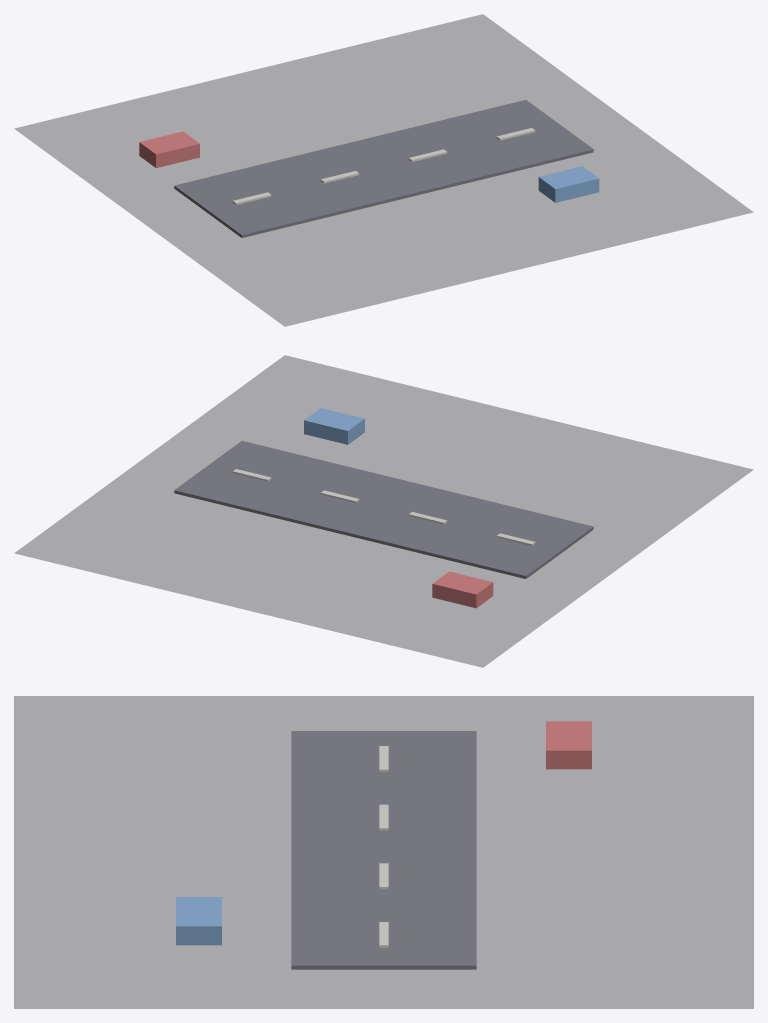
File: kid_tapete_pista.glb
3 views of the same model, one above another, from view 1: azimuth 30°, elevation 25°; view 2: azimuth 150°, elevation 25°; view 3: azimuth 270°, elevation 25° (orthographic). The views are drawn at different scales.
Visible parts, largest first — view 1: KID_TAPETE_PISTA_v01; view 2: KID_TAPETE_PISTA_v01; view 3: KID_TAPETE_PISTA_v01.
Part boxes in pixels (<box>): KID_TAPETE_PISTA_v01: <box>14,14,753,326</box>; KID_TAPETE_PISTA_v01: <box>14,355,753,667</box>; KID_TAPETE_PISTA_v01: <box>14,696,753,1008</box>.
Size of the model in its own units: 1.6 by 0.05 by 1.6.
